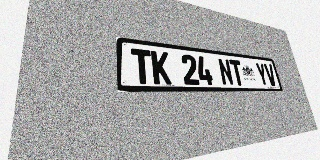2: (181, 54, 200, 85)
4: (195, 56, 214, 85)
K: (151, 50, 172, 84)
N: (217, 58, 234, 85)
T: (131, 48, 153, 84), (229, 59, 245, 86)
V: (263, 63, 278, 86)
Y: (255, 62, 269, 86)
